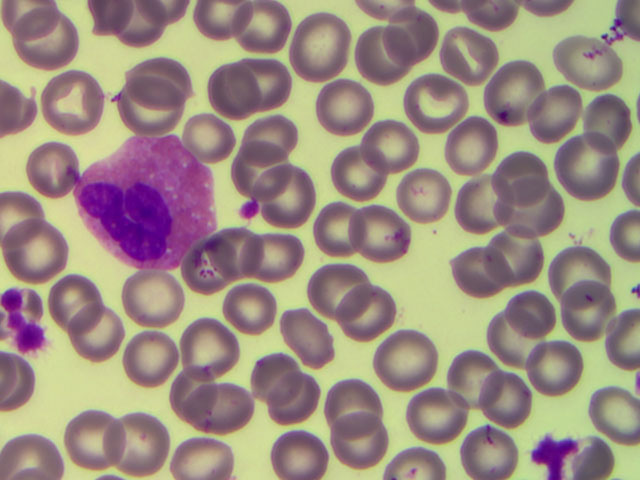Platelets: (524, 434, 562, 464), (238, 197, 259, 224), (1, 287, 22, 314), (7, 314, 33, 334), (19, 332, 42, 349)
RBC: (173, 412, 235, 480), (264, 412, 326, 480), (321, 412, 383, 480), (459, 412, 521, 480), (16, 7, 78, 74), (39, 72, 101, 139), (22, 133, 84, 200), (1, 221, 63, 288), (48, 264, 110, 331), (64, 304, 126, 371), (116, 256, 178, 323), (125, 326, 187, 393), (110, 408, 172, 475), (60, 406, 122, 473), (198, 375, 260, 442), (154, 349, 216, 416), (177, 310, 239, 377), (217, 278, 279, 345), (179, 241, 241, 308), (205, 211, 267, 278), (236, 215, 298, 282), (263, 162, 325, 229), (233, 123, 295, 190), (246, 100, 308, 167), (169, 100, 231, 167), (109, 74, 171, 141), (118, 49, 180, 116), (185, 58, 247, 125), (227, 47, 289, 114), (296, 10, 358, 77), (310, 80, 372, 147), (377, 110, 439, 177), (334, 148, 396, 215), (356, 208, 418, 275), (319, 203, 381, 270), (335, 285, 397, 352), (306, 263, 368, 330), (283, 302, 345, 369), (269, 362, 331, 429), (241, 347, 303, 414), (321, 359, 383, 426), (380, 329, 442, 396), (407, 382, 469, 449), (484, 354, 546, 421), (442, 341, 504, 408), (481, 306, 543, 373), (497, 284, 559, 351), (526, 339, 588, 406), (578, 381, 640, 448), (560, 288, 622, 355), (548, 238, 610, 305), (453, 243, 515, 310), (484, 223, 546, 290), (502, 190, 564, 257), (499, 152, 561, 219), (443, 166, 505, 233), (441, 110, 503, 177), (404, 159, 466, 226), (401, 65, 463, 132), (438, 27, 500, 94), (486, 54, 548, 121), (525, 72, 587, 139), (560, 132, 622, 199), (570, 83, 632, 150), (560, 31, 622, 98), (390, 4, 452, 71), (340, 23, 402, 90), (229, 1, 291, 67)
WBC: (74, 135, 221, 264)
